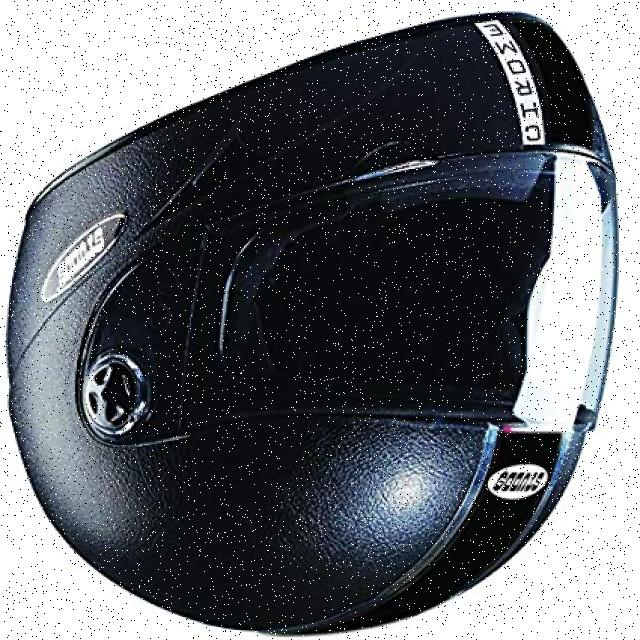Helmet: (12, 16, 616, 635)
